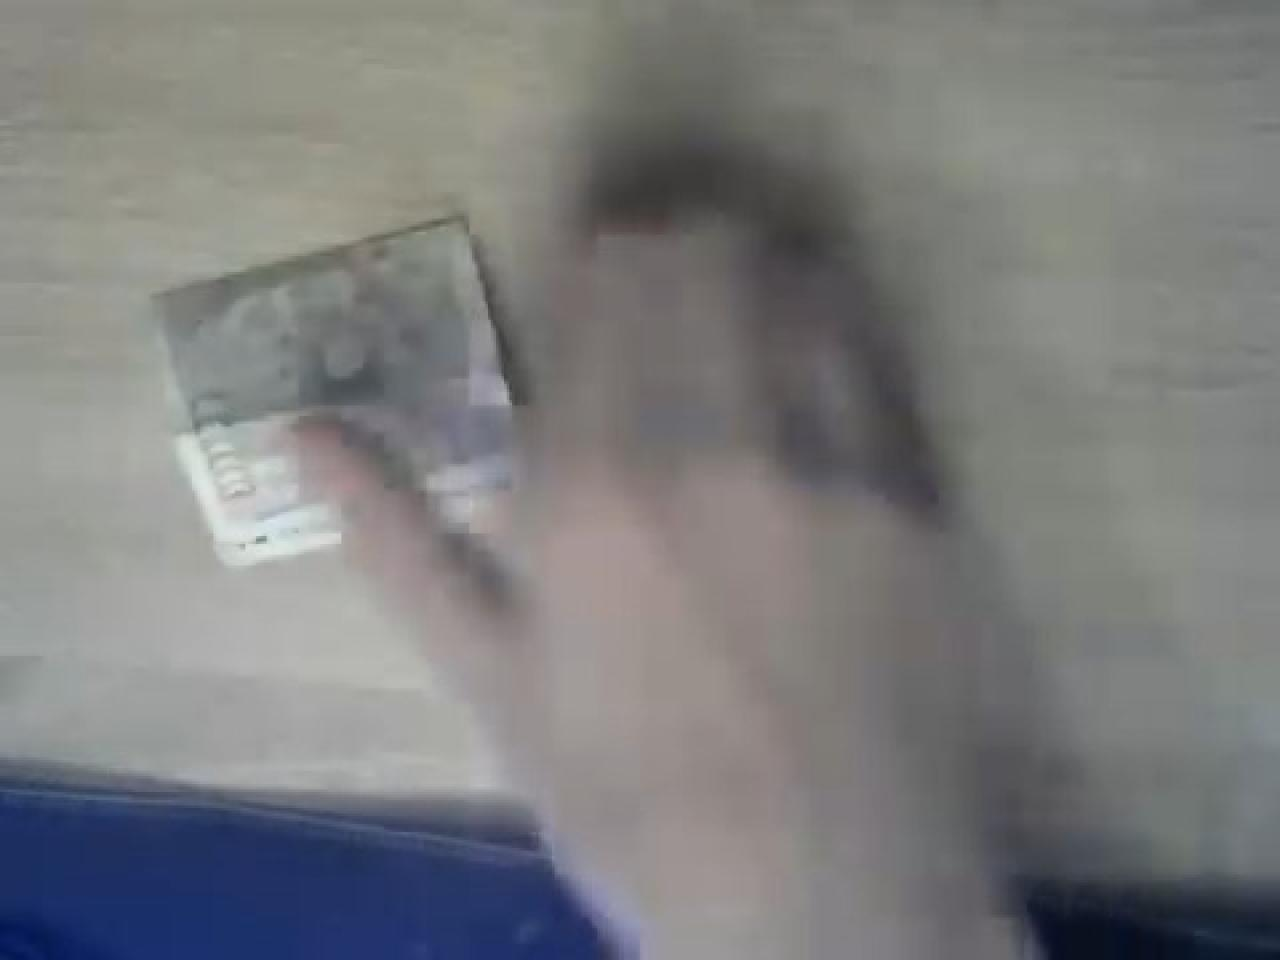10leva: (149, 214, 523, 574)
